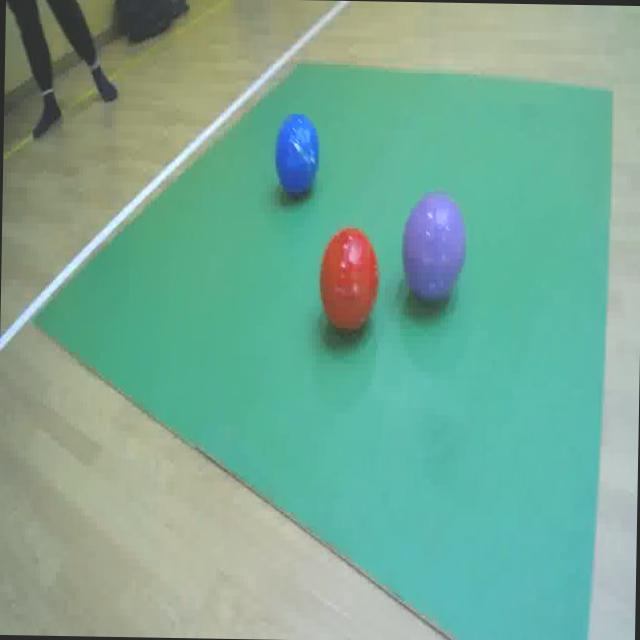blue_ball: (276, 116, 322, 196)
purple_ball: (404, 198, 466, 304)
red_ball: (320, 226, 383, 336)
